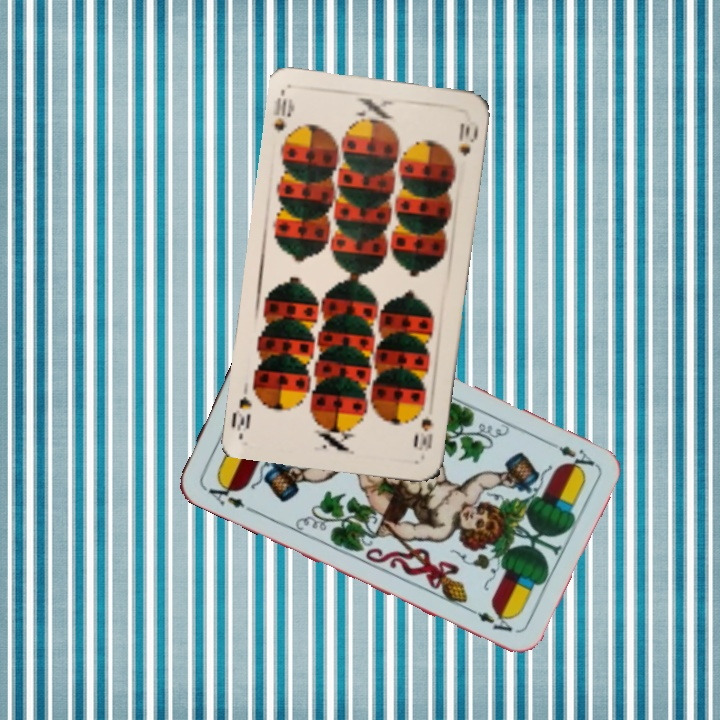EA: (199, 476, 255, 515), (542, 437, 597, 474)
S10: (269, 88, 297, 136), (412, 400, 436, 454)
